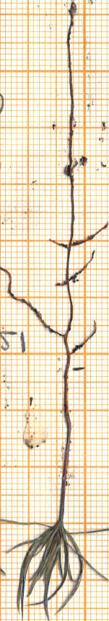flower: (2, 518, 109, 621)
root: (1, 0, 109, 367)
stem: (49, 368, 77, 517)
